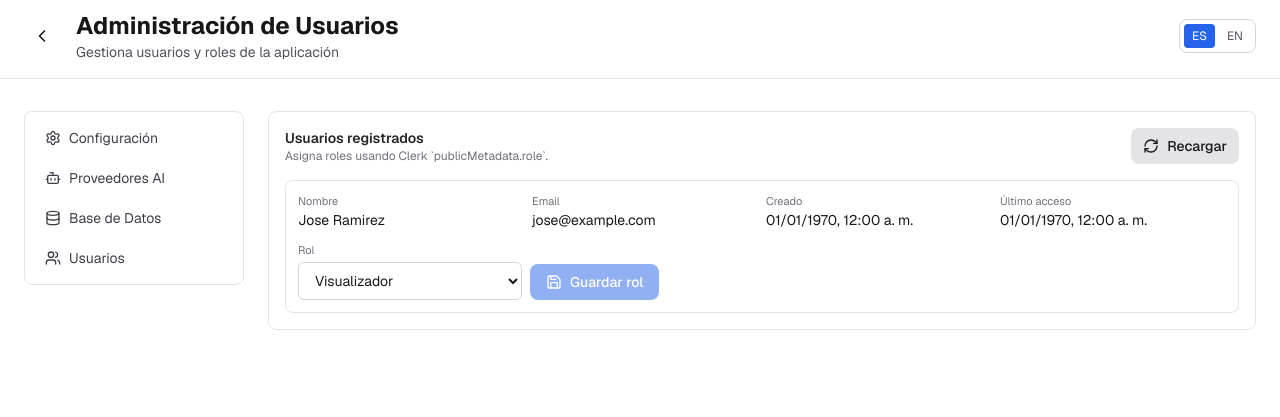
Scenario: AdminUsersPage › shows save error when role update fails
Select "Admin" in the dropdown with test id "role-select-user_1" at x=410, y=281, box [298,262,522,300]
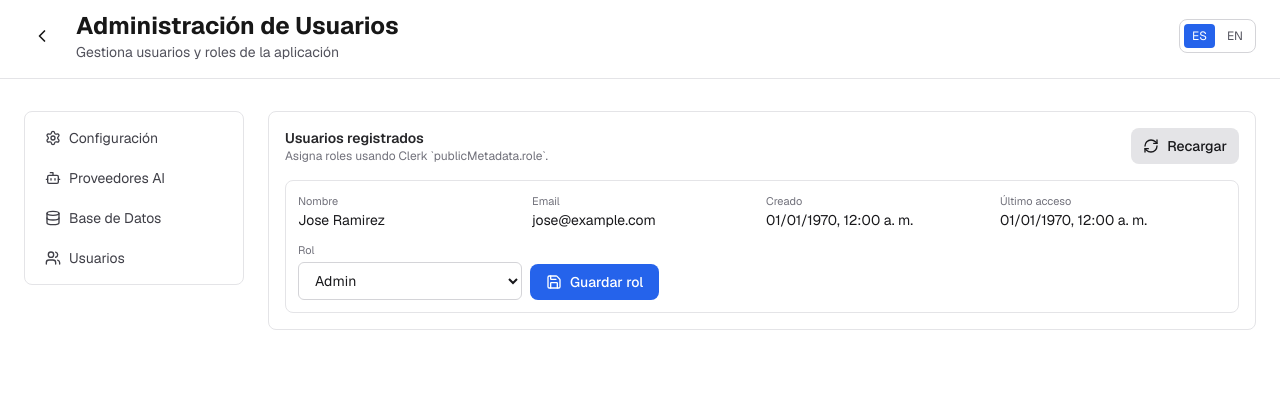
Click the button with test id "save-role-user_1" at x=595, y=282, box [530,264,659,300]
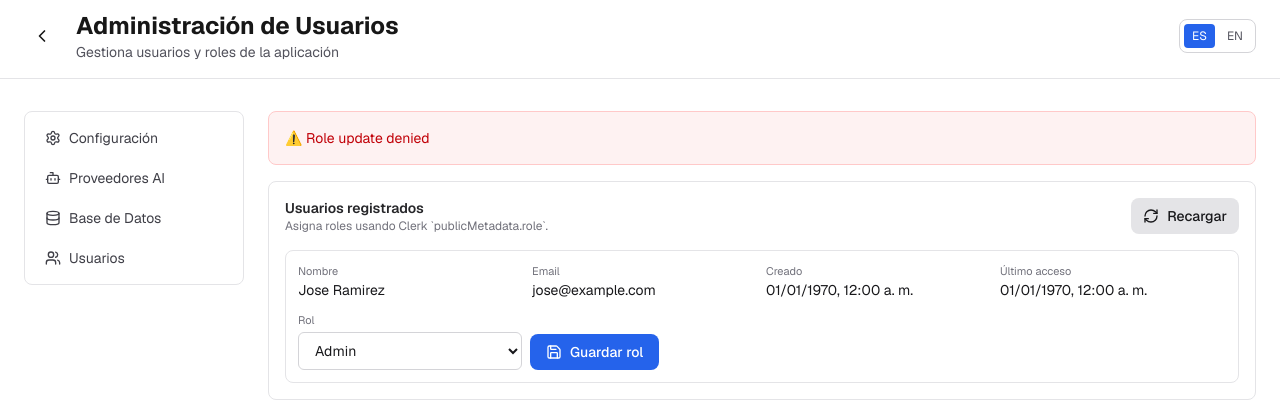
Result: the text "⚠️ Role update denied" is shown at [285,129,430,147]
